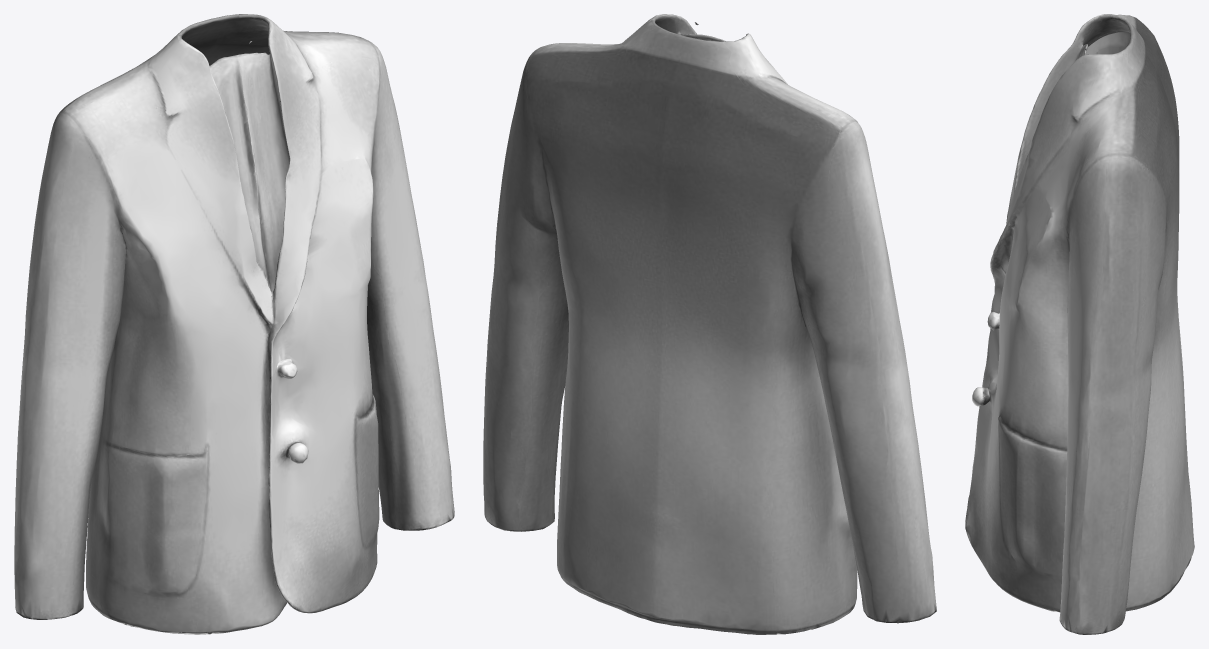
The model's file is blazer_school.glb.
3 renders of one model, left to right at view 1: azimuth 30°, elevation 25°; view 2: azimuth 150°, elevation 25°; view 3: azimuth 270°, elevation 25°, orthographic. The views are drawn at different scales.
Visible parts, largest first — view 1: Blazer; view 2: Blazer; view 3: Blazer.
Part boxes in pixels (bbox=[...]): Blazer: bbox=[14, 14, 454, 634]; Blazer: bbox=[483, 14, 936, 634]; Blazer: bbox=[965, 14, 1194, 634].
Bounding box in the file's own units: 0.8222 × 0.9977 × 0.3981.
1 material, 1 textured.
